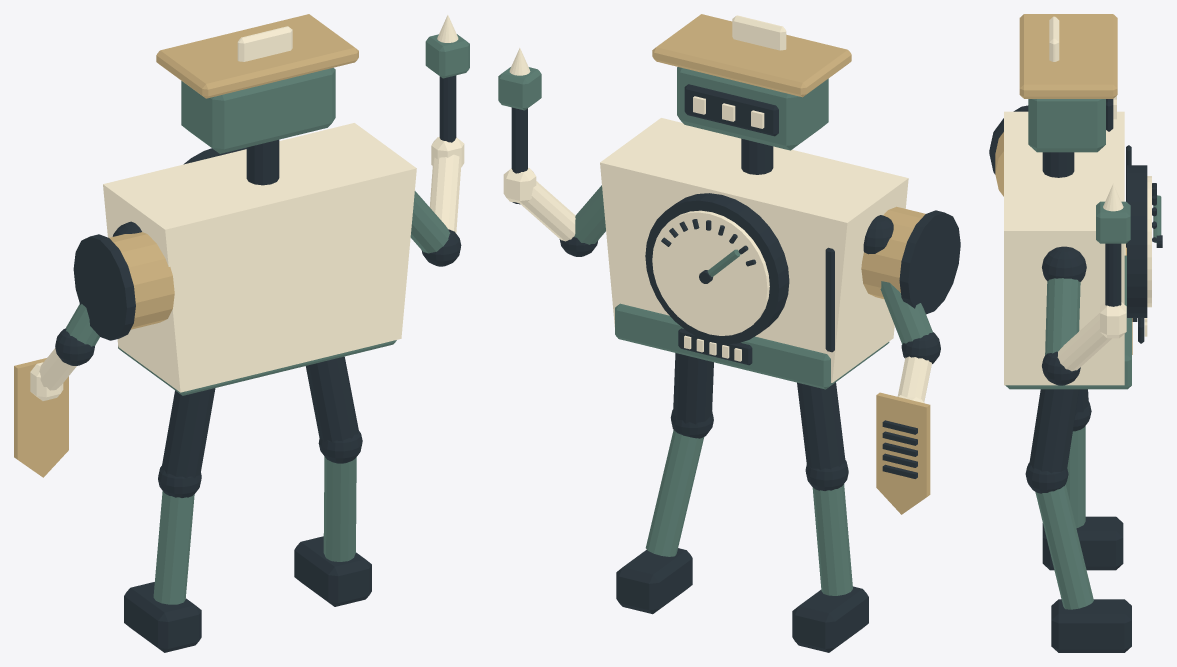
The picture shows the model from 3 angles, left to right: view 1: azimuth 30°, elevation 25°; view 2: azimuth 150°, elevation 25°; view 3: azimuth 270°, elevation 25°; orthographic projection. The views are drawn at different scales.
Visible parts, largest first — view 1: meter_housing, reader_head, paper_brim, receipt_cap, unwound_receipt, receipt_spool, left_shoe, left_shin, right_shoe, left_thigh, right_shin, right_thigh (+13 smaller); view 2: meter_housing, record_gauge_dial, paper_brim, bottom_instrument_band, record_gauge_rim, reader_head, receipt_cap, unwound_receipt, right_shin, right_shoe, left_shoe, left_shin (+19 smaller); view 3: meter_housing, paper_brim, reader_head, right_shoe, right_shin, right_thigh, record_gauge_rim, left_shoe, right_arm_upper, left_shin, right_arm_forearm, proof_probe_tip (+14 smaller).
Part boxes in pixels (x1,y1,x2,y2): meter_housing: (103, 123, 416, 392); reader_head: (181, 67, 335, 153); paper_brim: (156, 14, 358, 98); receipt_cap: (73, 234, 135, 340); unwound_receipt: (14, 358, 68, 477); receipt_spool: (109, 232, 174, 329); left_shoe: (124, 582, 201, 652); left_shin: (153, 491, 194, 604); right_shoe: (294, 536, 371, 606); left_thigh: (161, 388, 215, 478); right_shin: (323, 456, 356, 561); right_thigh: (305, 356, 358, 442); meter_housing: (600, 118, 908, 382); record_gauge_dial: (652, 210, 769, 335); paper_brim: (652, 14, 851, 97); bottom_instrument_band: (615, 303, 889, 389); record_gauge_rim: (645, 193, 789, 344); reader_head: (677, 67, 828, 150); receipt_cap: (899, 210, 960, 314); unwound_receipt: (876, 392, 930, 514); right_shin: (645, 430, 704, 556); right_shoe: (616, 548, 692, 614); left_shoe: (792, 586, 868, 652); left_shin: (812, 484, 852, 595); meter_housing: (1004, 111, 1124, 385); paper_brim: (1019, 14, 1117, 98); reader_head: (1028, 99, 1105, 152); right_shoe: (1051, 599, 1131, 652); right_shin: (1035, 485, 1093, 609); right_thigh: (1029, 389, 1079, 473); record_gauge_rim: (1127, 165, 1147, 317); left_shoe: (1042, 516, 1123, 570); right_arm_upper: (1045, 278, 1080, 355); left_shin: (1065, 426, 1085, 528); right_arm_forearm: (1057, 313, 1111, 371); proof_probe_tip: (1096, 201, 1130, 243).
Size of the model in its own units: 1.71 by 2.21 by 0.601.
